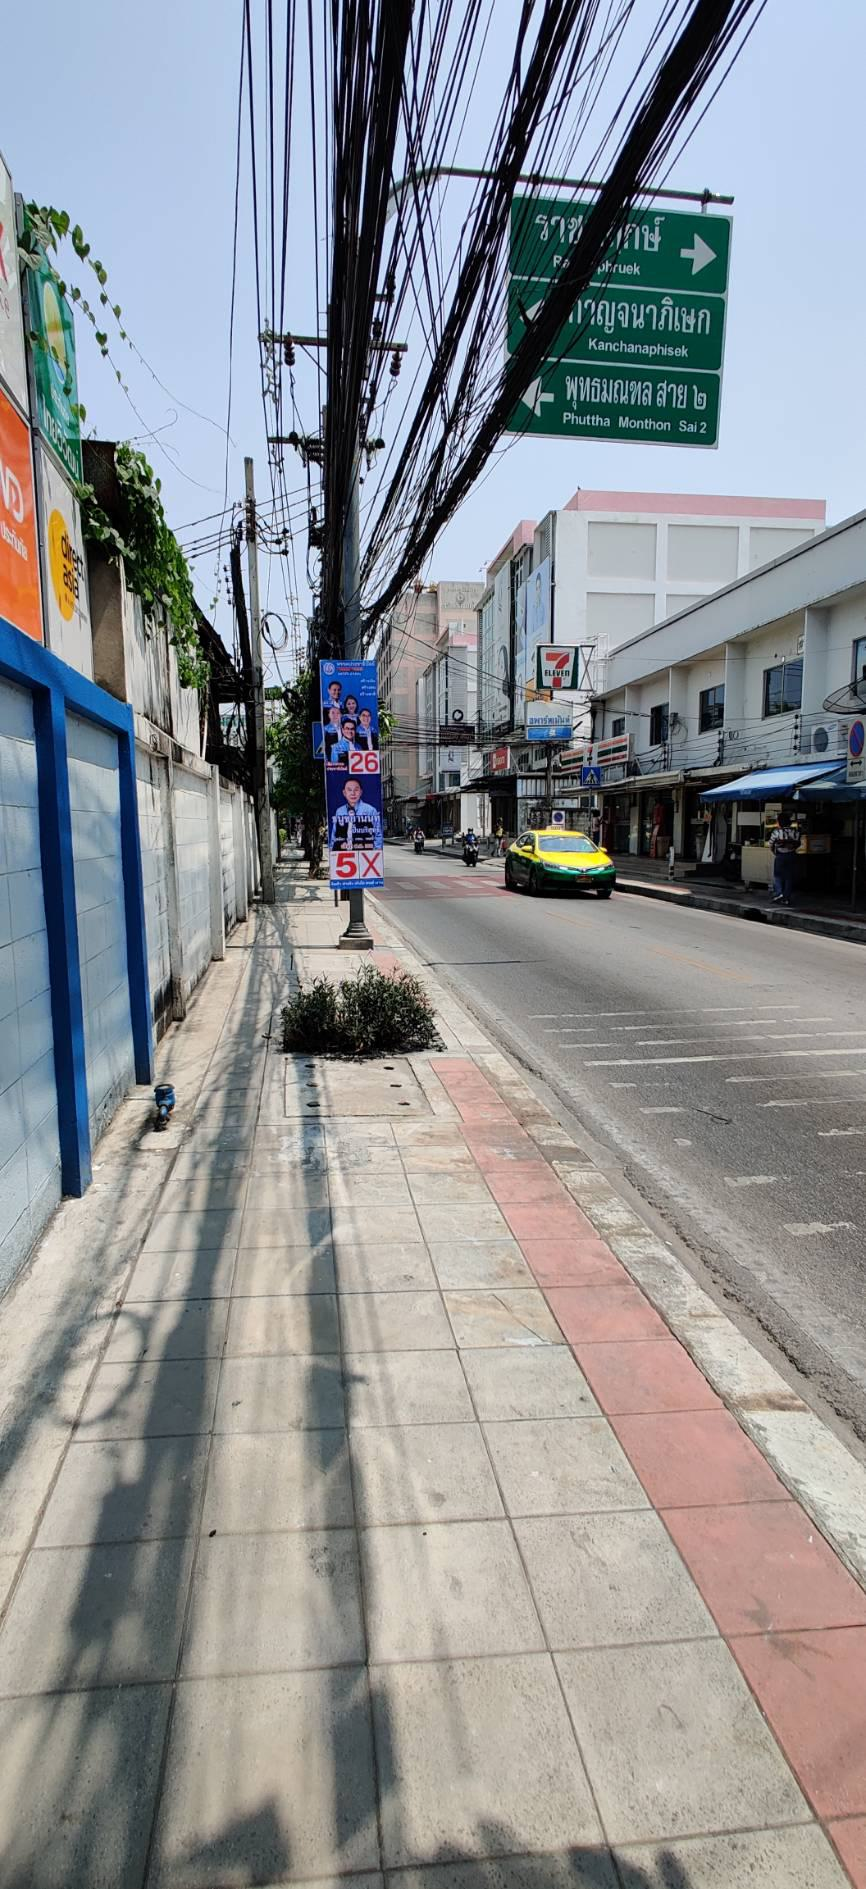Banner: (310, 654, 396, 918)
